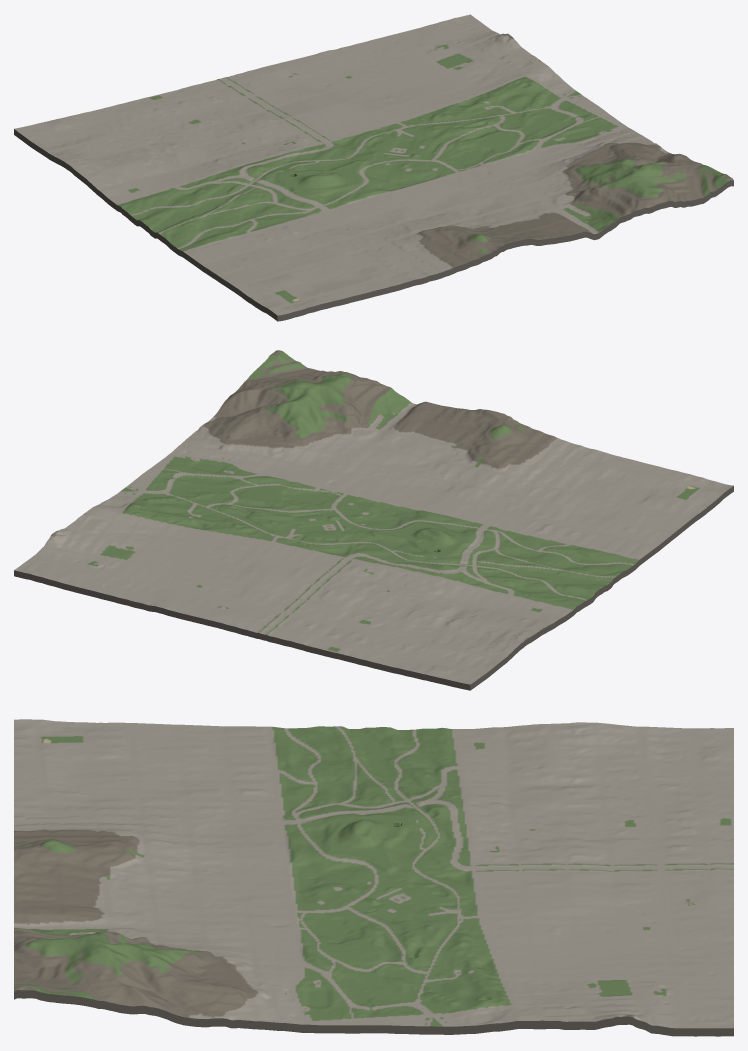
File: terrain_1_3.glb
The picture shows the model from 3 angles, top to bottom: view 1: azimuth 30°, elevation 25°; view 2: azimuth 150°, elevation 25°; view 3: azimuth 270°, elevation 25°; orthographic projection. The views are drawn at different scales.
Parts seen in each view (by area): view 1: terrain_1_3; view 2: terrain_1_3; view 3: terrain_1_3.
Boxes of the visible parts, bbox=[...] form: terrain_1_3: bbox=[14, 14, 733, 321]; terrain_1_3: bbox=[14, 350, 733, 690]; terrain_1_3: bbox=[14, 719, 733, 1036].
Bounding box in the file's own units: 3200 × 279 × 3200.
